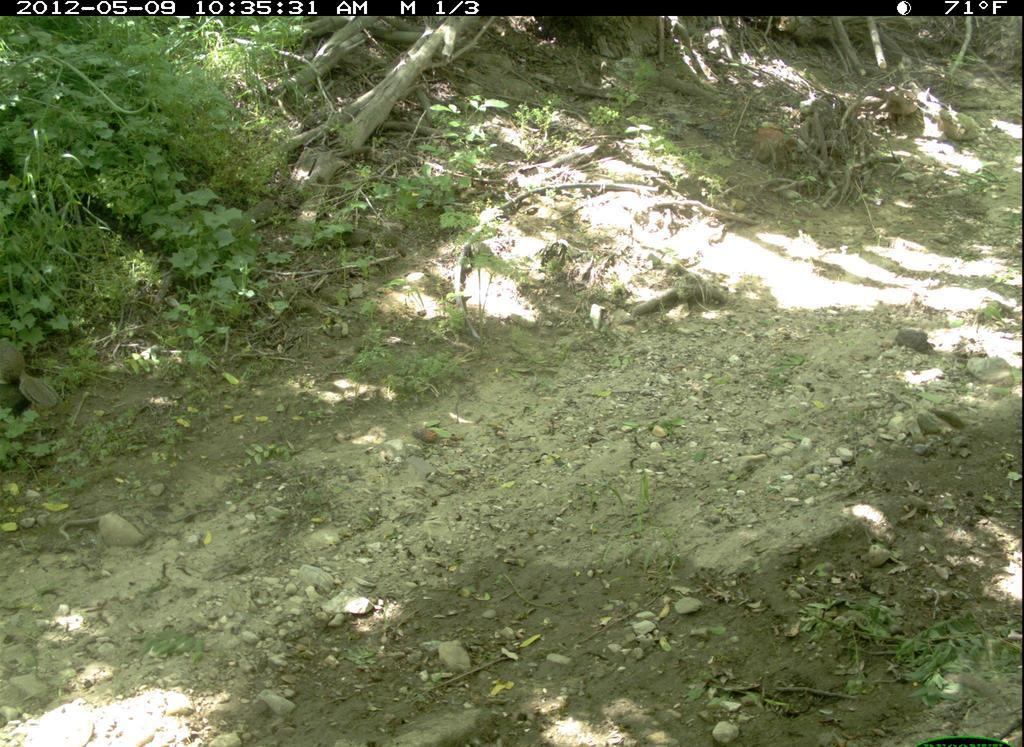squirrel: (3, 336, 70, 413)
